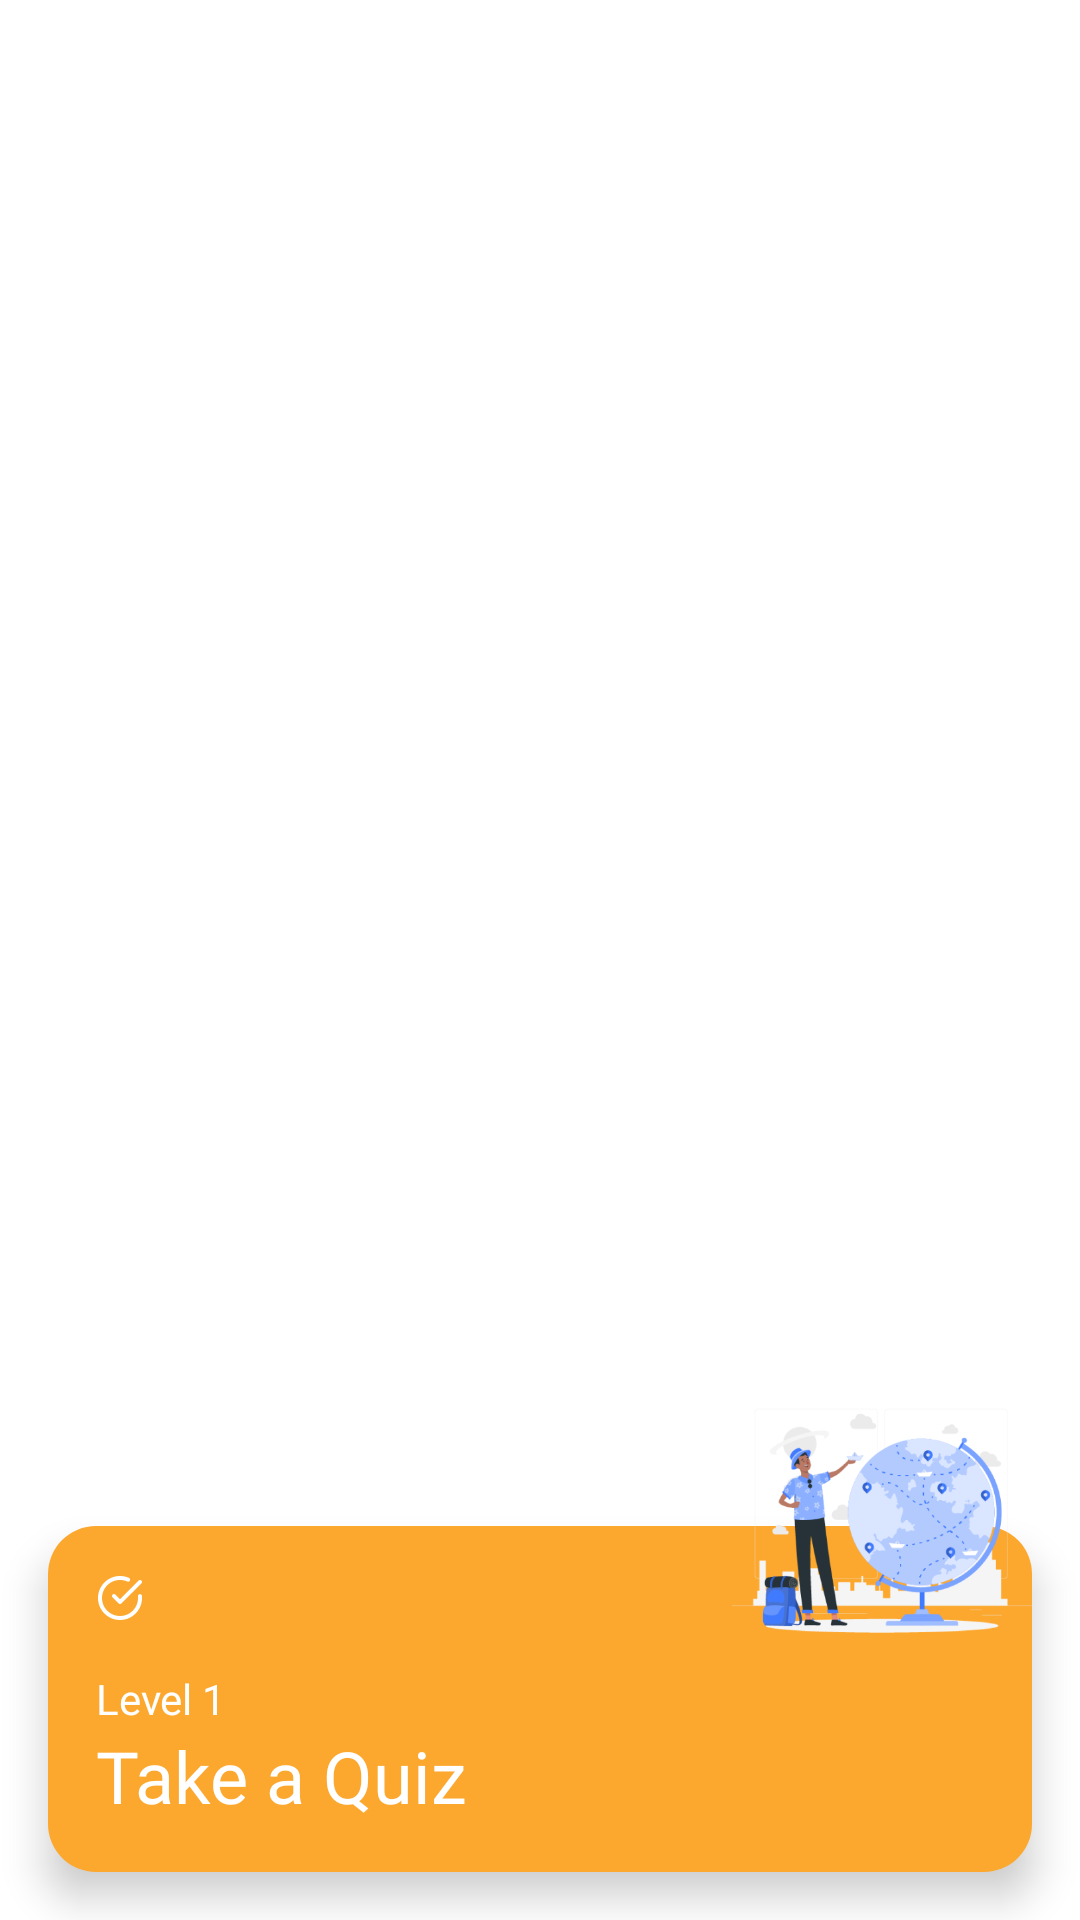

Icons on this 1080 × 1920 Android screen, each with its box as detection(x1, y1, x2, y2):
check circle: detection(98, 1576, 142, 1620)
